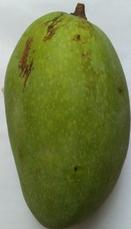Unripe: (1, 1, 131, 229)
